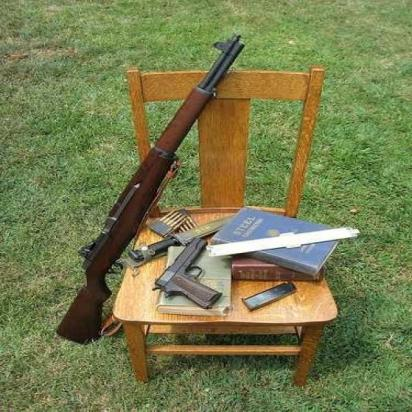Gun: (54, 31, 248, 348)
